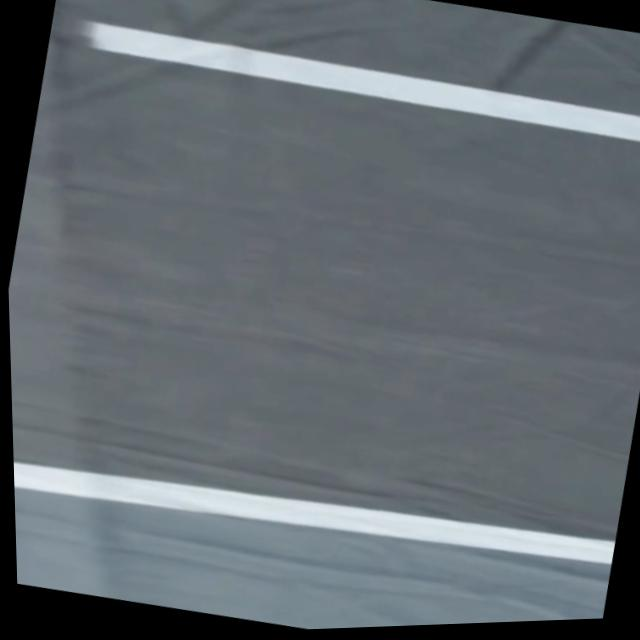center: (81, 21, 640, 141)
left: (14, 462, 615, 564)
